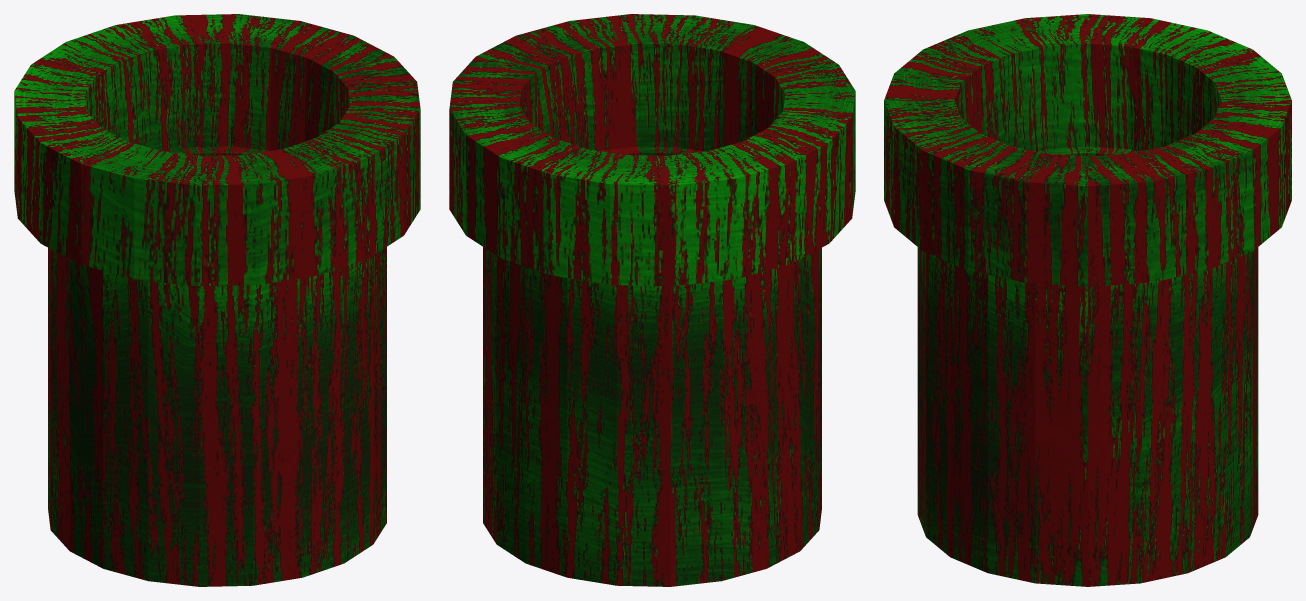
The model's file is pipe.fbx.
The picture shows the model from 3 angles, left to right: view 1: azimuth 30°, elevation 25°; view 2: azimuth 150°, elevation 25°; view 3: azimuth 270°, elevation 25°; orthographic projection.
Visible parts, largest first — view 1: pPipe1; view 2: pPipe1; view 3: pPipe1.
Boxes of the visible parts, left/top/right/bottom form: pPipe1: left=14, top=14, right=420, bottom=586; pPipe1: left=449, top=14, right=855, bottom=586; pPipe1: left=884, top=14, right=1291, bottom=586.
Size of the model in its own units: 3.3 by 3.71 by 3.3.
Materials: 2 (2 with a texture image).
